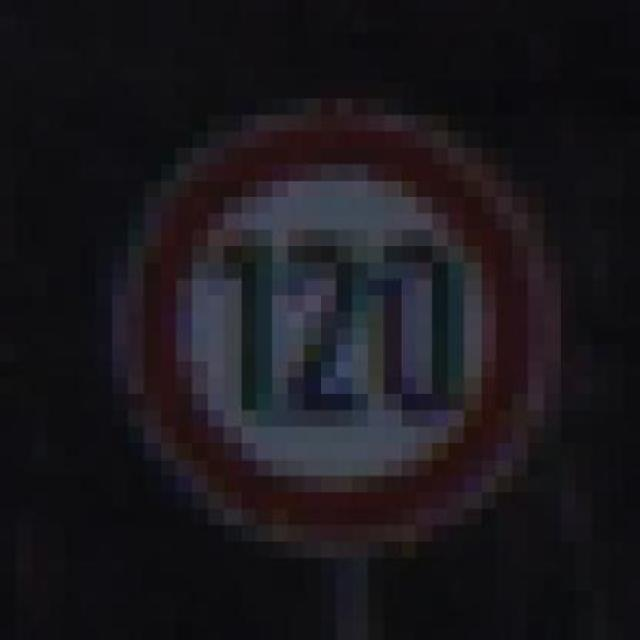forb_speed_over_120: (138, 120, 541, 542)
